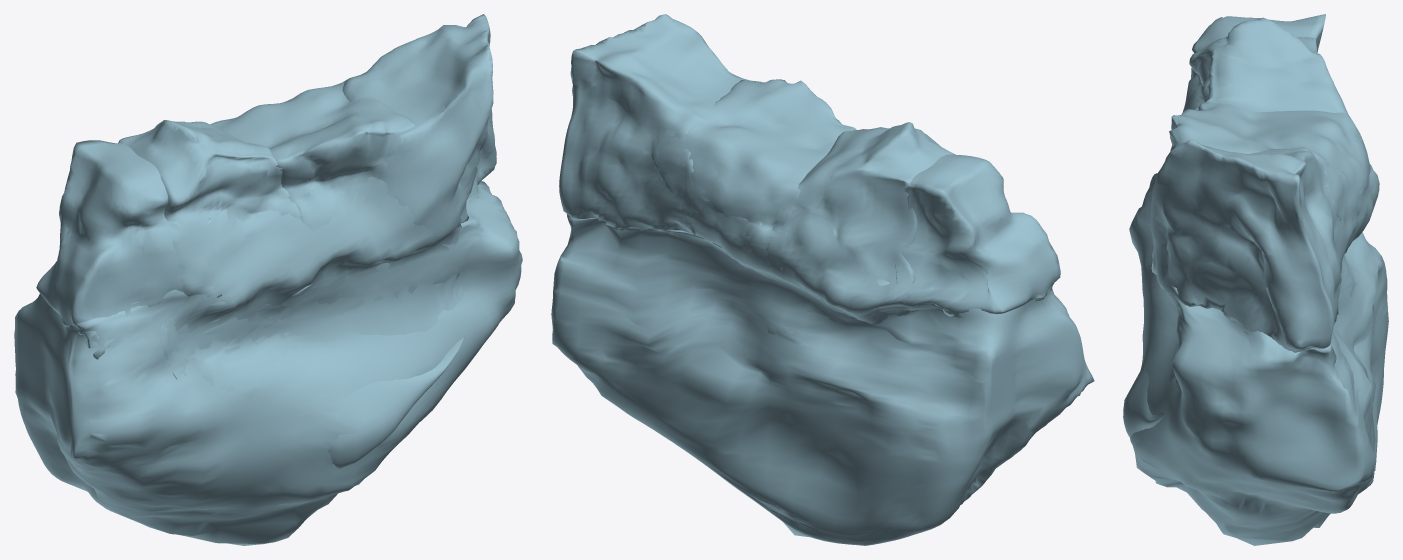
Rendered from Iceberg.obj.
3 renders of one model, left to right at view 1: azimuth 30°, elevation 25°; view 2: azimuth 150°, elevation 25°; view 3: azimuth 270°, elevation 25°, orthographic. The views are drawn at different scales.
Parts seen in each view (by area): view 1: Cube.001; view 2: Cube.001; view 3: Cube.001.
Part boxes in pixels (x1,y1,x2,y2): Cube.001: (14,14,522,545); Cube.001: (551,14,1094,545); Cube.001: (1123,14,1388,545).
Bounding box in the file's own units: 8.38 × 7.61 × 3.64.
